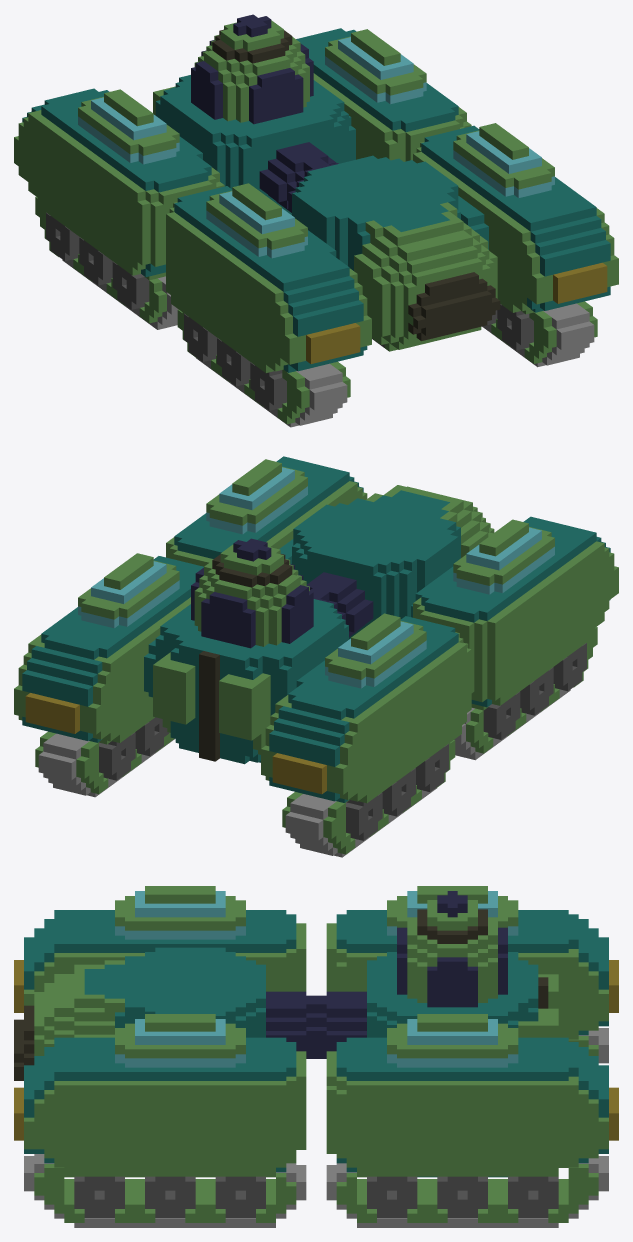
Rendered from all-purpose_mecha-6.obj.
3 renders of one model, top to bottom at view 1: azimuth 30°, elevation 25°; view 2: azimuth 150°, elevation 25°; view 3: azimuth 270°, elevation 25°, orthographic. The views are drawn at different scales.
Visible parts, largest first — view 1: all-purpose_mecha-6; view 2: all-purpose_mecha-6; view 3: all-purpose_mecha-6.
Boxes of the visible parts, x1,y1,x2,y2 form: all-purpose_mecha-6: (14, 14, 618, 427); all-purpose_mecha-6: (14, 456, 618, 857); all-purpose_mecha-6: (14, 886, 618, 1227).
Size of the model in its own units: 40 by 28 by 60.
Materials: 1 (1 with a texture image).
